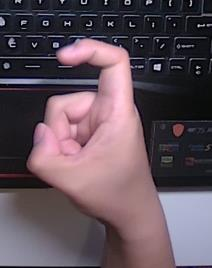anticlockwise: (21, 33, 152, 210)
